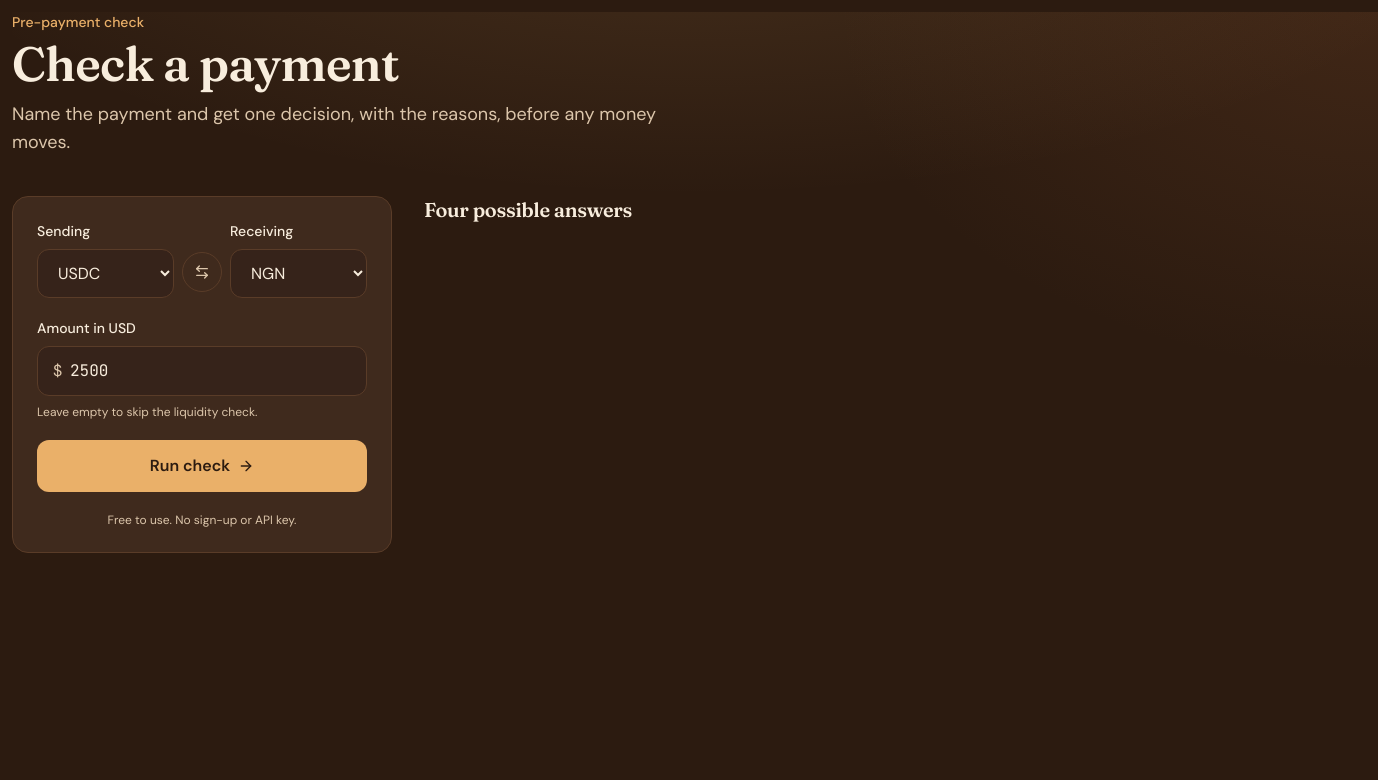
Test: PredictionForm (Check a payment) › shows an error when the API cannot be reached
Click the button "Run check".
click(202, 466)  # box [37,440,367,492]
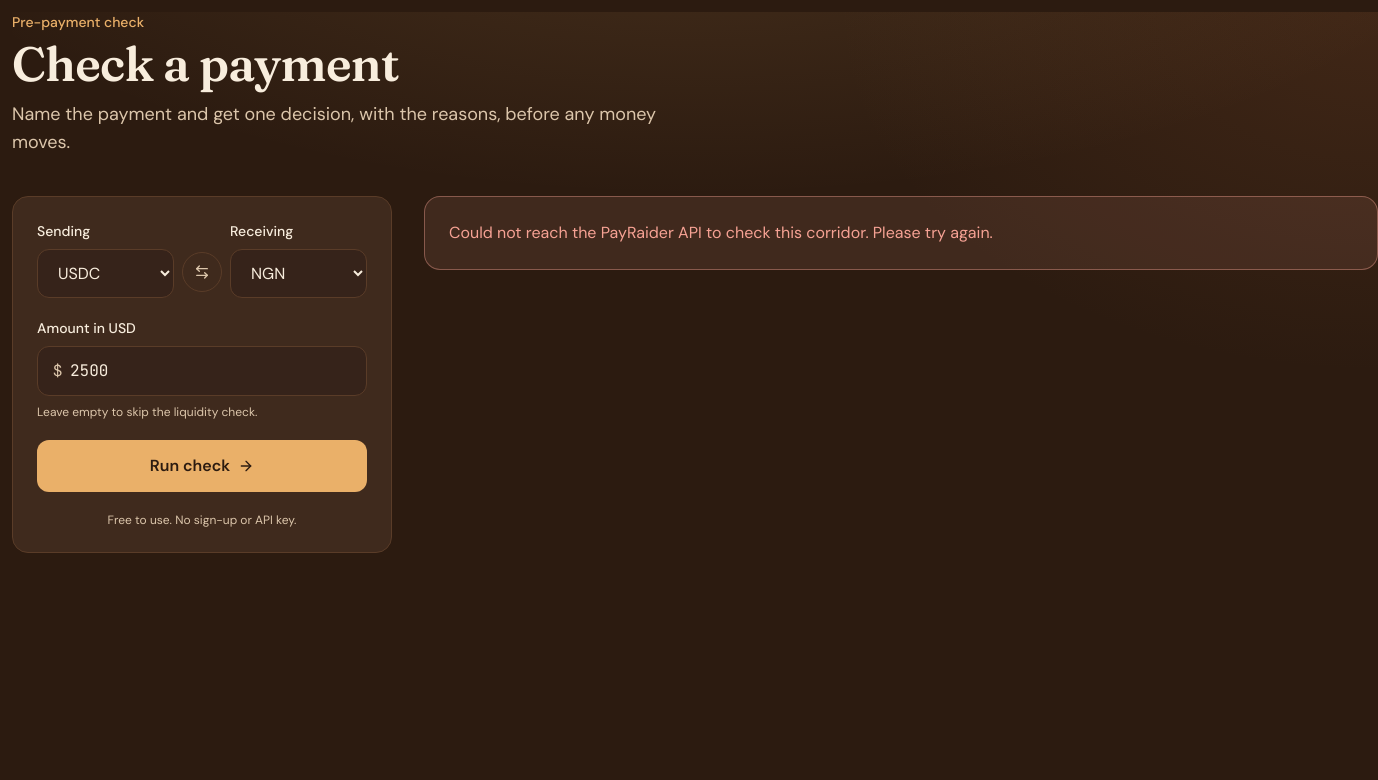
Expected: the message shows "Could not reach the PayRaider API", [449,222,993,243]
